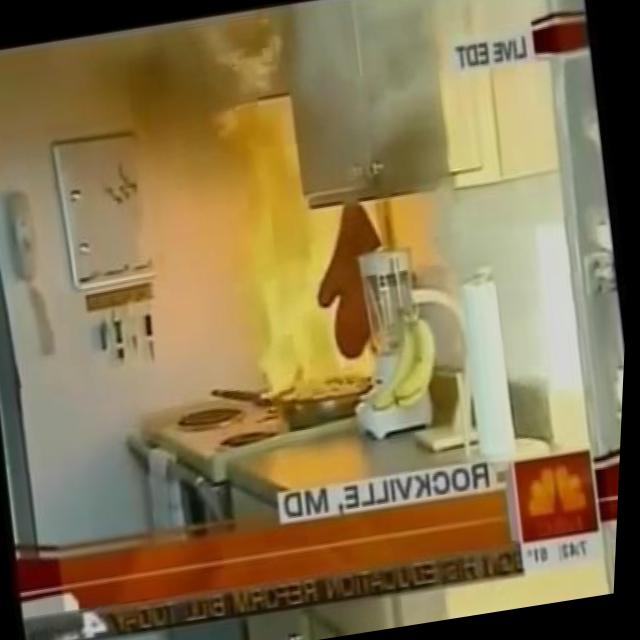fire: (202, 77, 420, 409)
